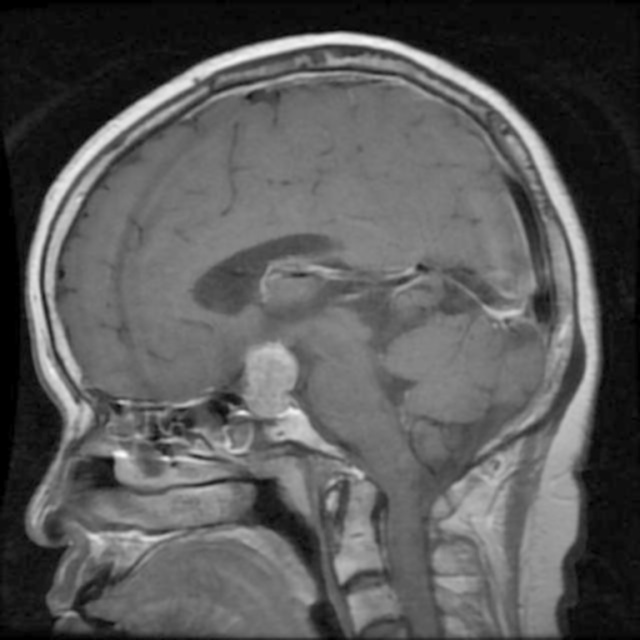no tumor: (235, 339, 316, 425)
